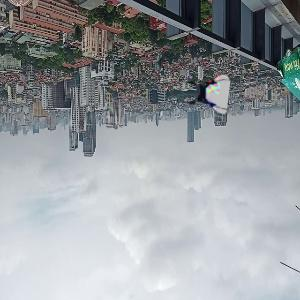drone: (185, 72, 230, 117)
